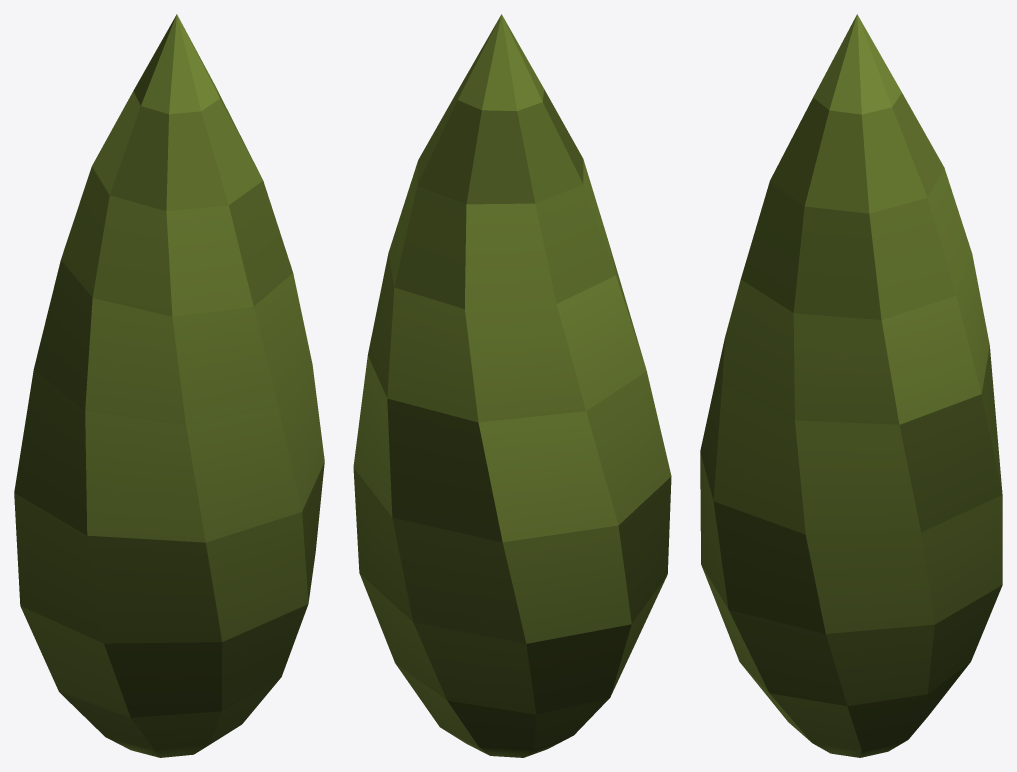
The model's file is tree.fbx.
3 renders of one model, left to right at view 1: azimuth 30°, elevation 25°; view 2: azimuth 150°, elevation 25°; view 3: azimuth 270°, elevation 25°, orthographic.
Parts seen in each view (by area): view 1: tree; view 2: tree; view 3: tree.
Part boxes in pixels (x1,y1,x2,y2): tree: (14, 14, 324, 757); tree: (353, 14, 671, 757); tree: (700, 14, 1002, 757).
Bounding box in the file's own units: 975 × 2533 × 953.
